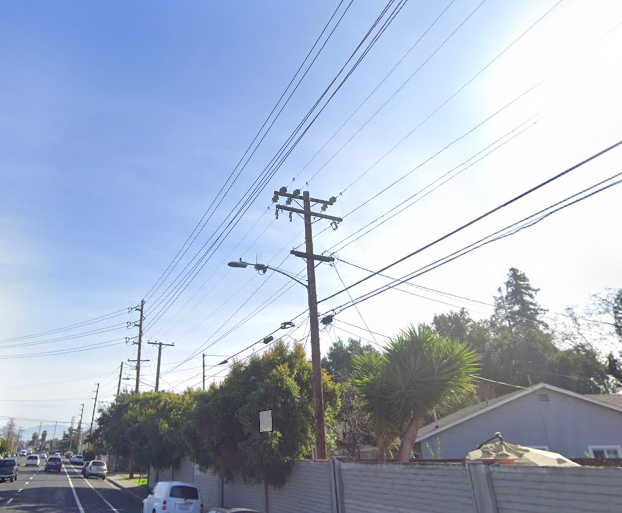utility_pole: (266, 178, 348, 268)
